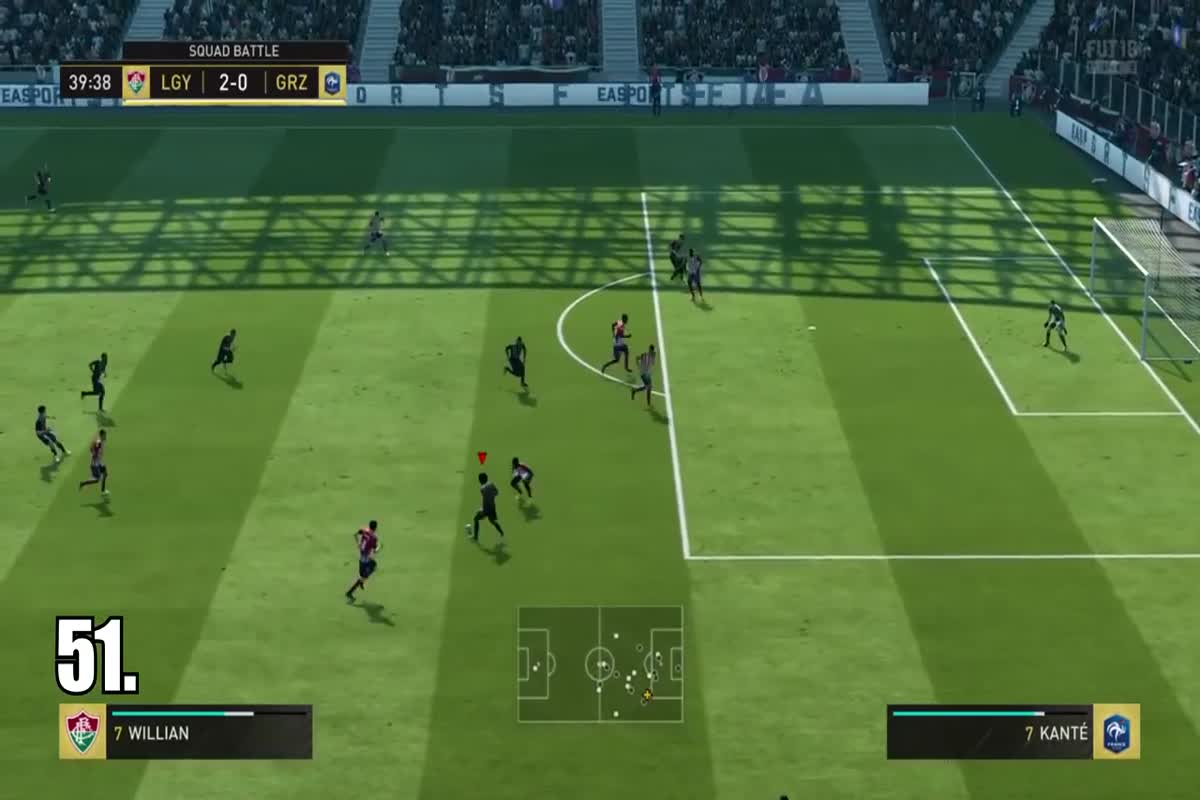ball: (450, 516, 476, 537)
